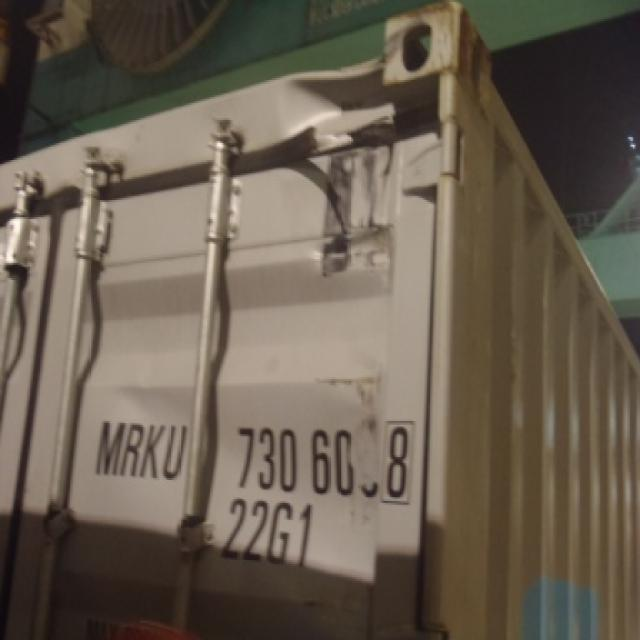dent: (248, 1, 470, 167), (291, 92, 423, 281), (35, 178, 87, 215)
